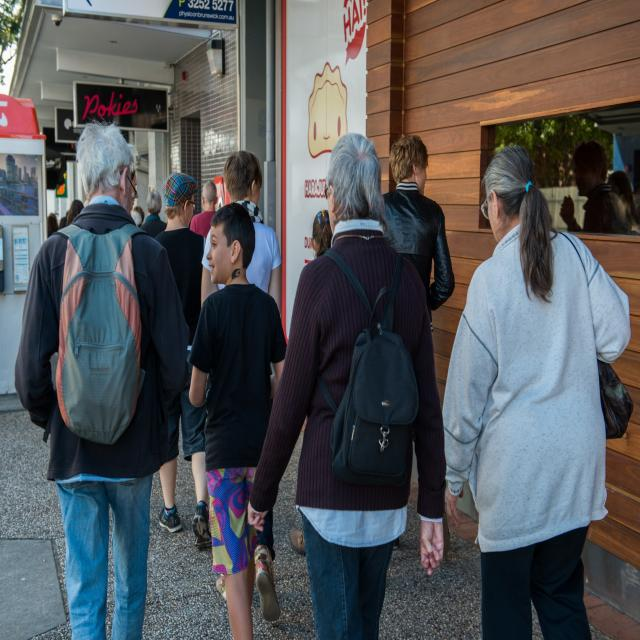body: (247, 129, 446, 640), (435, 140, 635, 640), (15, 120, 184, 640), (186, 202, 292, 640), (198, 149, 284, 624), (140, 170, 217, 552), (288, 208, 334, 558), (380, 133, 456, 334), (3, 184, 152, 238), (559, 140, 639, 232), (190, 180, 219, 238), (138, 190, 168, 238)
